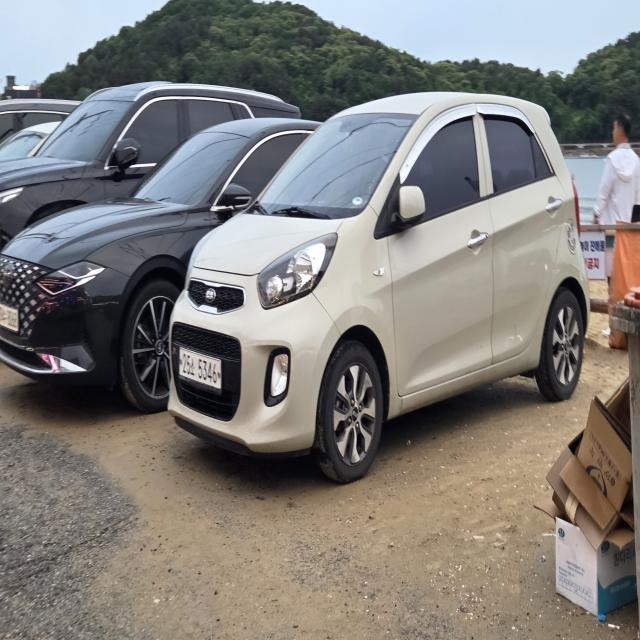car: (158, 74, 591, 480), (0, 108, 437, 422), (4, 77, 337, 353)
